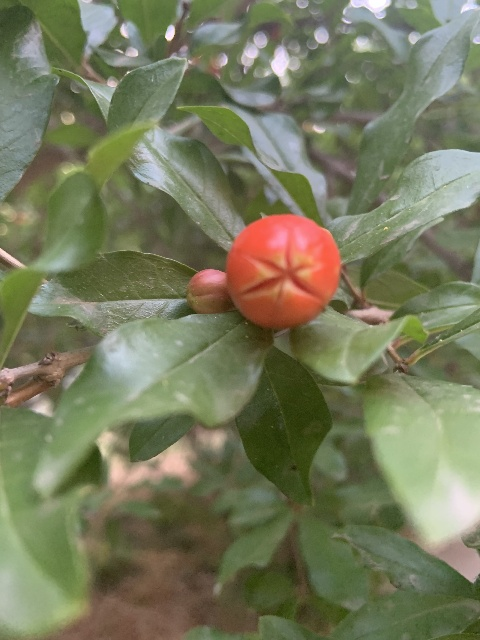bud: (226, 213, 341, 330), (186, 268, 233, 315)
